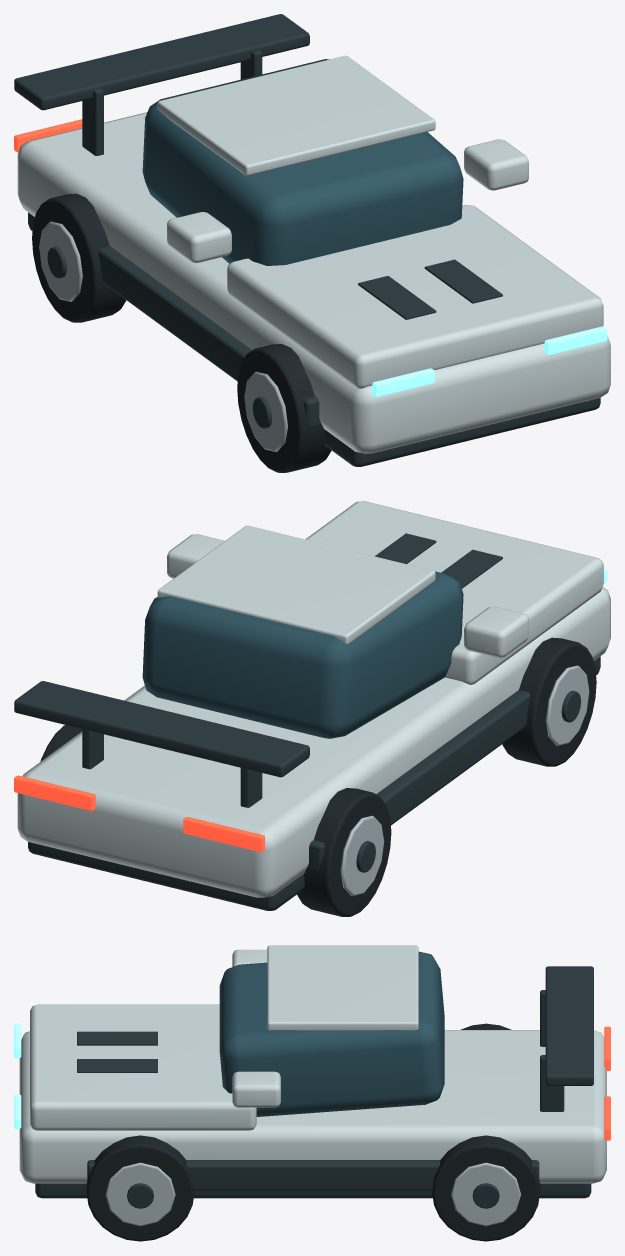
The model's file is apex-car.glb.
3 views of the same model, one above another, from view 1: azimuth 30°, elevation 25°; view 2: azimuth 150°, elevation 25°; view 3: azimuth 270°, elevation 25° (orthographic). The views are drawn at different scales.
Parts seen in each view (by area): view 1: Pearl ceramic, Smoked glass, Graphite, Tread rubber, Brushed alloy, Ion teal, Tail red; view 2: Pearl ceramic, Smoked glass, Graphite, Tread rubber, Brushed alloy, Tail red; view 3: Pearl ceramic, Graphite, Smoked glass, Tread rubber, Brushed alloy, Tail red, Ion teal.
Part boxes in pixels (bbox=[...]): Pearl ceramic: bbox=[17, 55, 610, 453]; Smoked glass: bbox=[142, 59, 463, 265]; Graphite: bbox=[14, 14, 600, 466]; Tread rubber: bbox=[32, 193, 331, 472]; Brushed alloy: bbox=[39, 221, 287, 451]; Ion teal: bbox=[372, 326, 607, 396]; Tail red: bbox=[14, 119, 82, 152]; Pearl ceramic: bbox=[17, 501, 610, 897]; Smoked glass: bbox=[142, 571, 463, 738]; Graphite: bbox=[14, 533, 600, 910]; Tread rubber: bbox=[40, 637, 596, 916]; Brushed alloy: bbox=[340, 665, 589, 896]; Tail red: bbox=[14, 775, 264, 852]; Pearl ceramic: bbox=[19, 945, 606, 1183]; Graphite: bbox=[35, 966, 593, 1208]; Smoked glass: bbox=[219, 951, 444, 1116]; Tread rubber: bbox=[86, 1023, 539, 1241]; Brushed alloy: bbox=[105, 1162, 520, 1226]; Tail red: bbox=[604, 1026, 610, 1140]; Ion teal: bbox=[14, 1023, 21, 1128].
Bounding box in the file's own units: 2.44 × 1.62 × 4.42.
